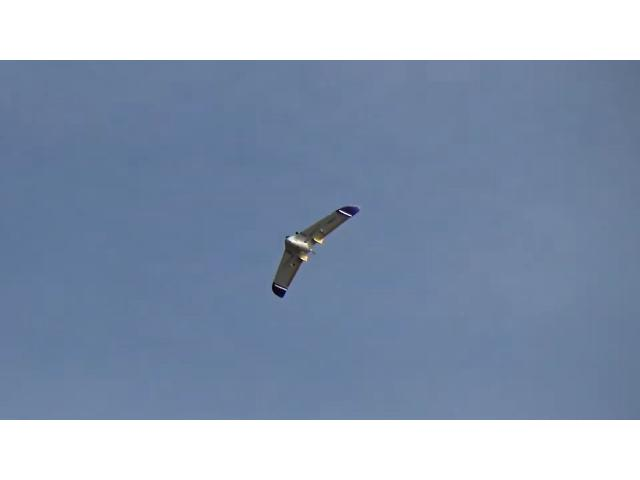Anti-Drone: (272, 206, 360, 298)
